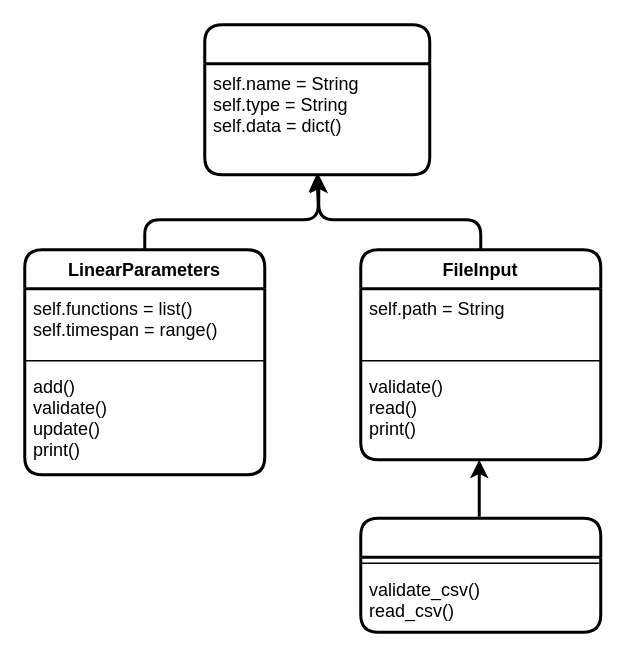
Image size: 626x657. Some labels were removed from this diagram. The box of each missing label's shape, as (x1, y1, x2, y2) in pixels:
CSVInput: (358, 516, 602, 633)
Input: (202, 22, 430, 176)
